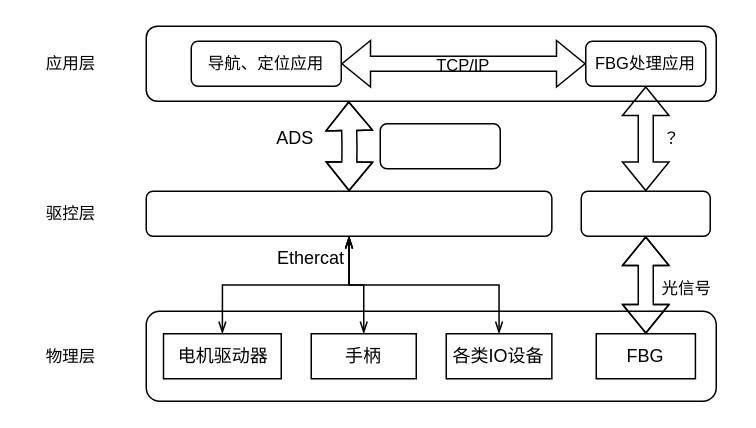
This 756x428 diagram has some shape labels left out. Each missing label, with the box of its shape:
FBG处理器: (580, 190, 710, 236)
PLC: (145, 190, 552, 236)
路由器？: (379, 122, 500, 169)
